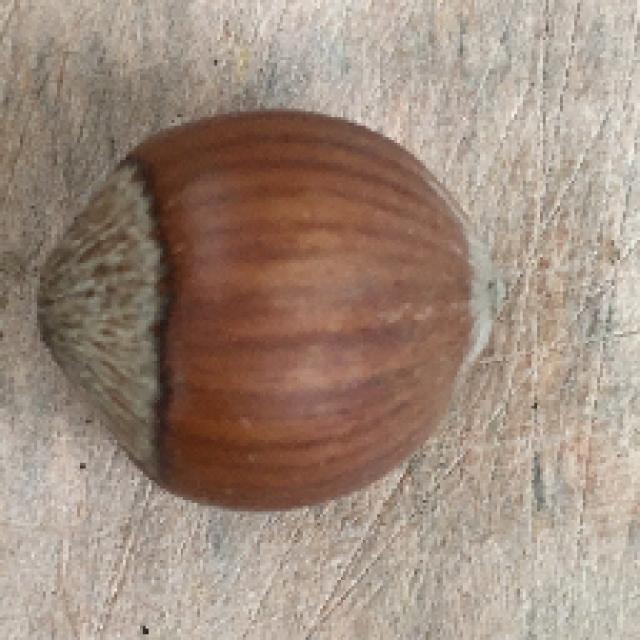qualityHazelnut: (40, 106, 517, 504)
